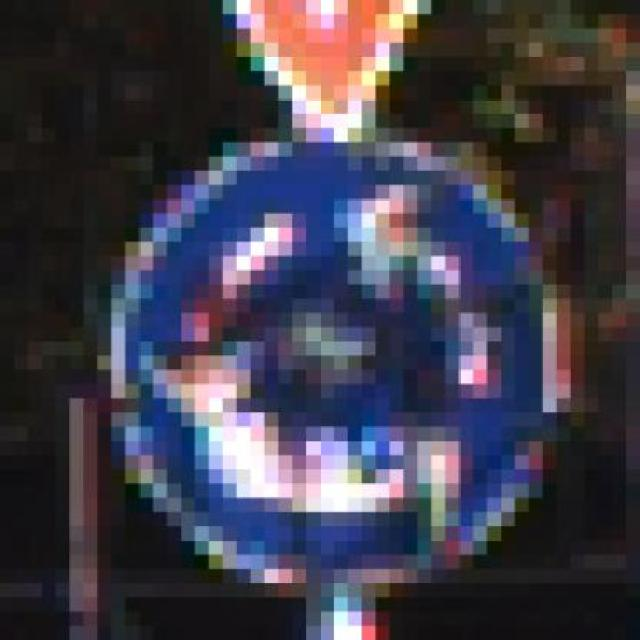Round-About: (83, 99, 585, 598)
